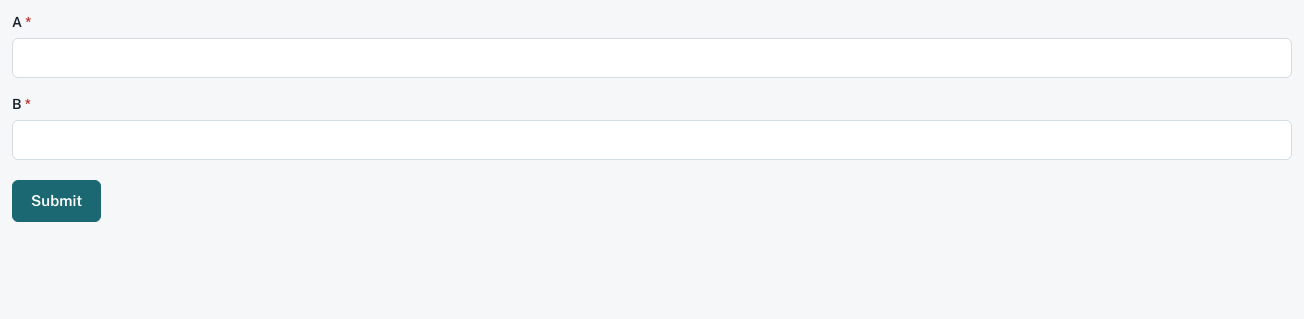
Scenario: form chrome › marks invalid fields, counts them and focuses the first one
Click the button "Submit": point(57, 201) [12,180,101,222]
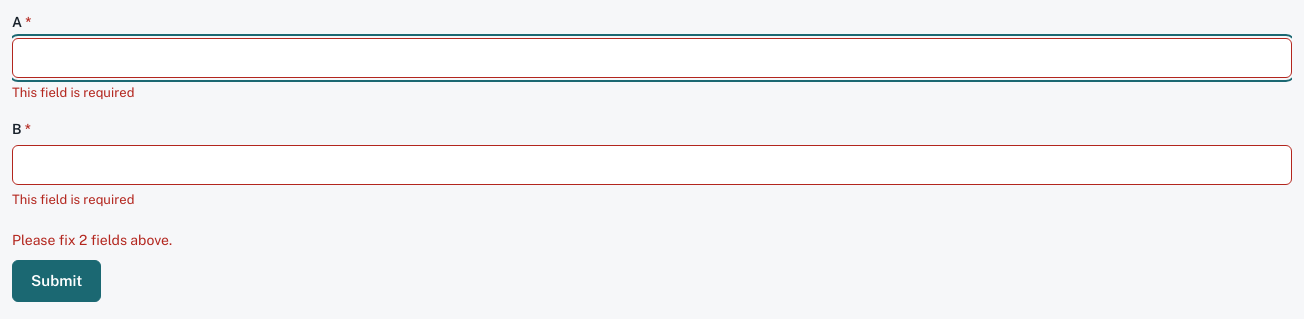
Check: the text "Please fix 2 fields above." is shown, box [12,230,172,250]
In the field labelled "A *": point(652, 58) [12,38,1292,78], type "x"
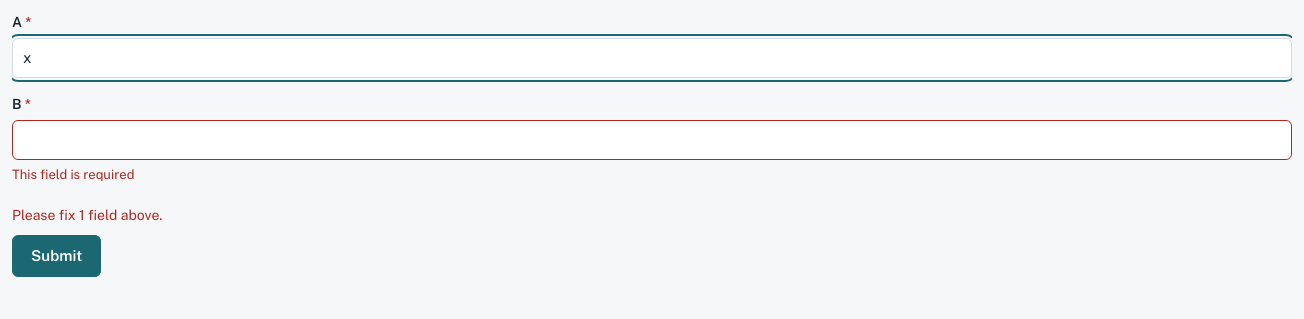
Check: the text "Please fix 1 field above." is shown, box [12,205,162,225]
